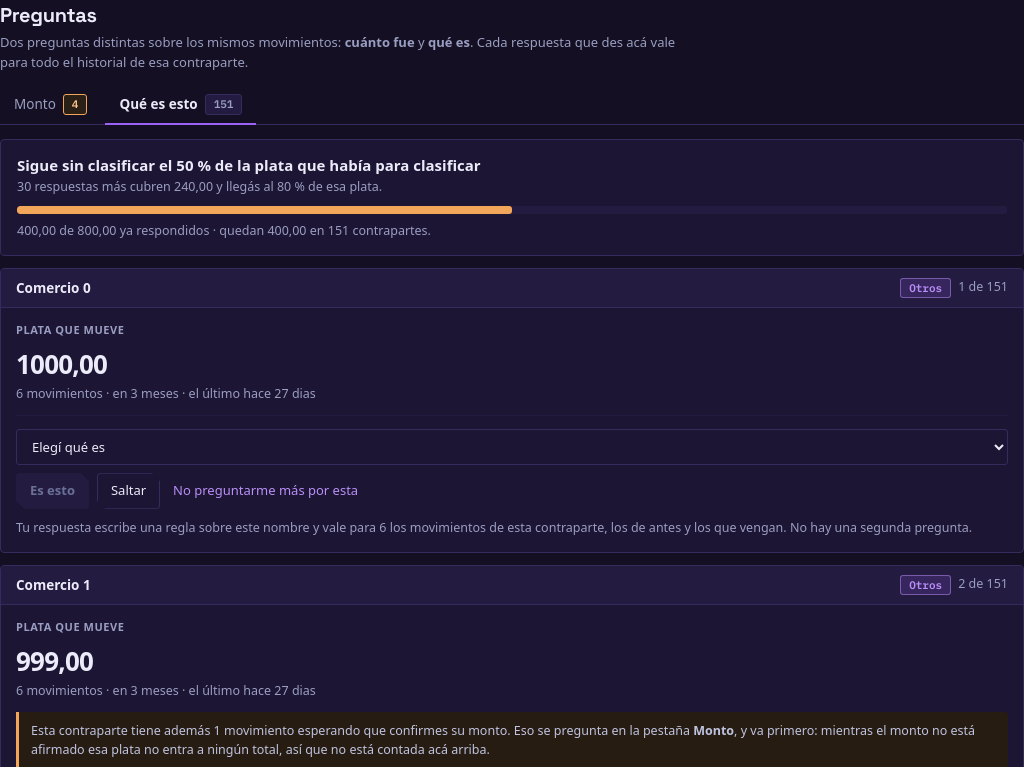
Test case: pestaña 'Qué es esto' — 151 grupos por plata › 'No preguntarme más por esta' (M5) silencia la contraparte y refresca
What coordinates should you click on to do the following:
click the button with test id "classify-silenciar"
I would click on:
 (266, 491)
Its box is x1=168 y1=473 x2=363 y2=509.
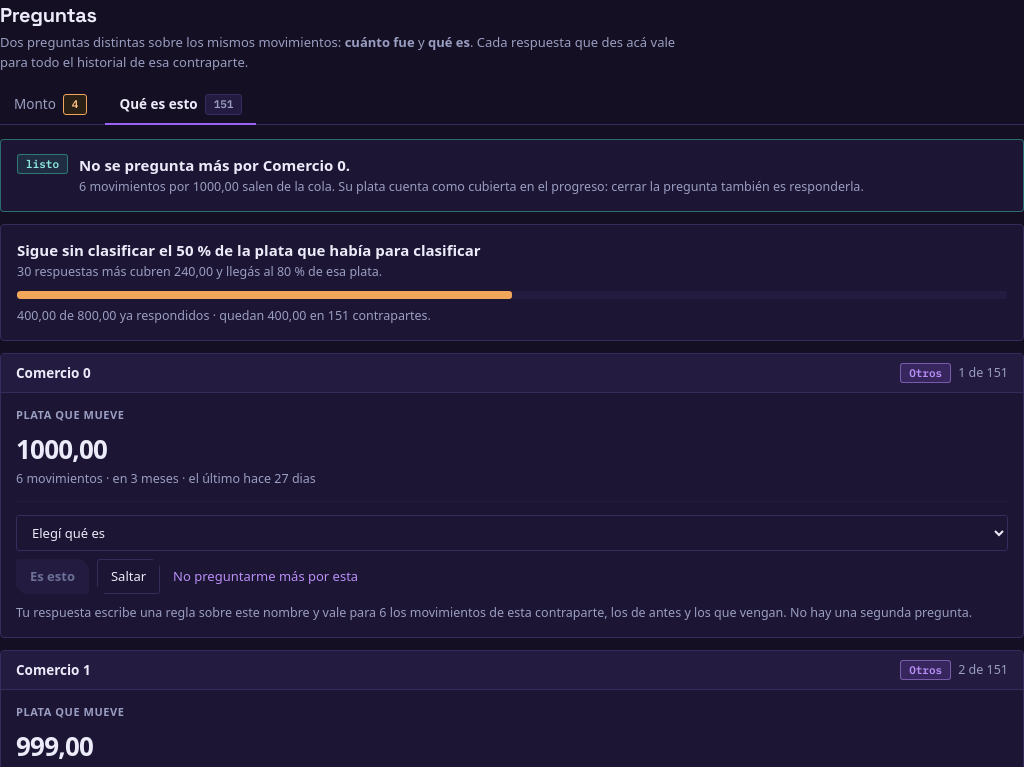
Expected: the element with test id "efecto" shows "No se pregunta más por Comercio 0", x1=79 y1=154 x2=350 y2=174
